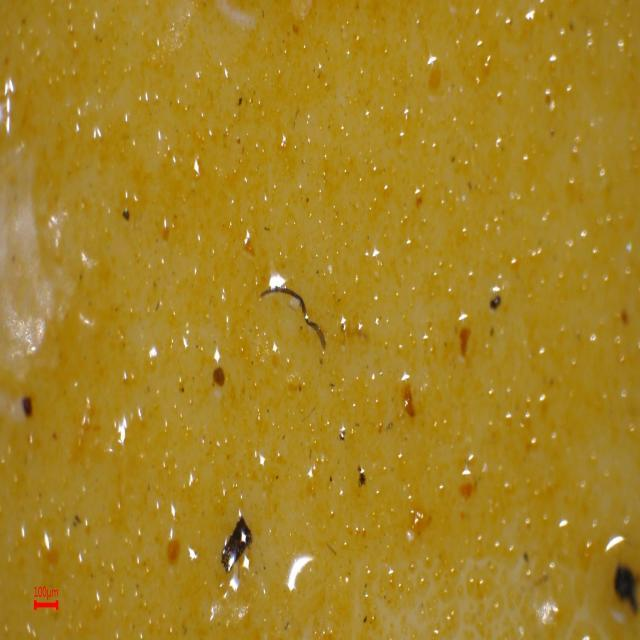fibers: (257, 275, 342, 350)
